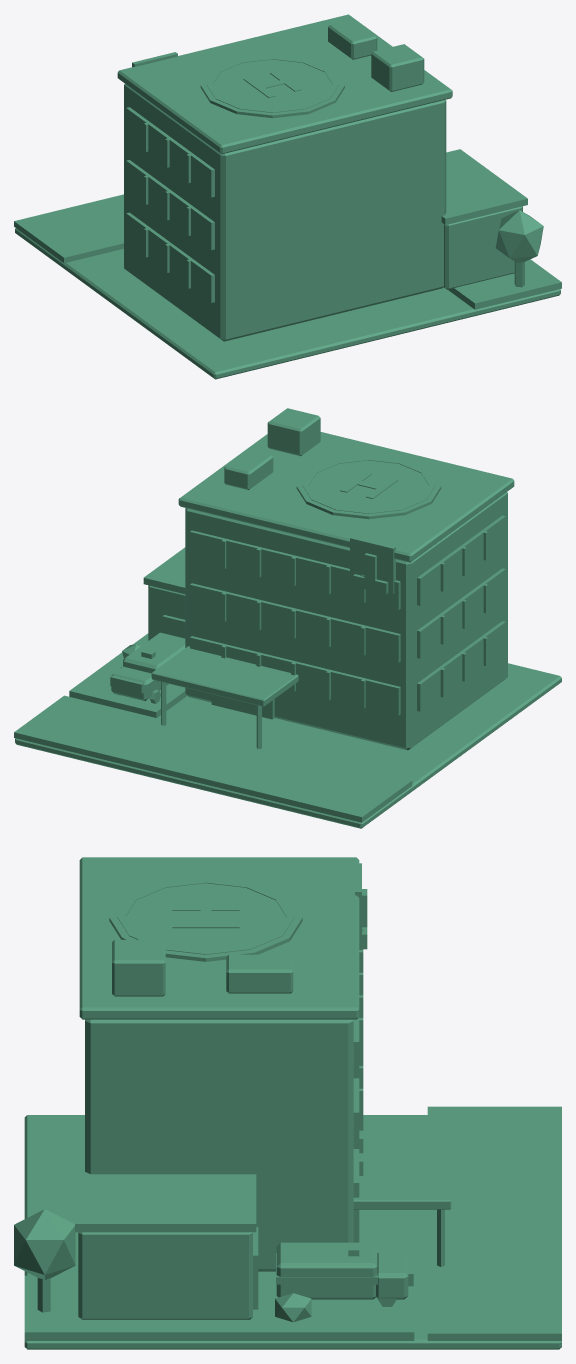
3 renders of one model, top to bottom at view 1: azimuth 30°, elevation 25°; view 2: azimuth 150°, elevation 25°; view 3: azimuth 270°, elevation 25°, orthographic. The views are drawn at different scales.
Parts seen in each view (by area): view 1: corpo; view 2: corpo; view 3: corpo.
Boxes of the visible parts, x1,y1,x2,y2 form: corpo: (14, 14, 561, 379); corpo: (14, 408, 561, 828); corpo: (14, 857, 561, 1349).
Bounding box in the file's own units: 4 × 2.64 × 4.08.
